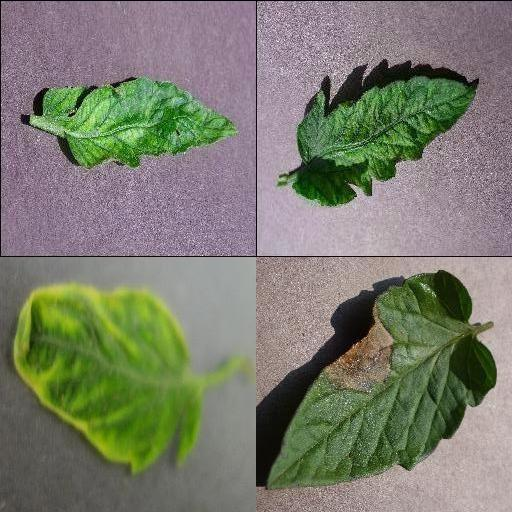Late Blight: (265, 268, 499, 490)
Mosaic Virus: (292, 75, 478, 205), (41, 75, 241, 171)
Yellow Leaf Curl Virus: (11, 283, 205, 473)
